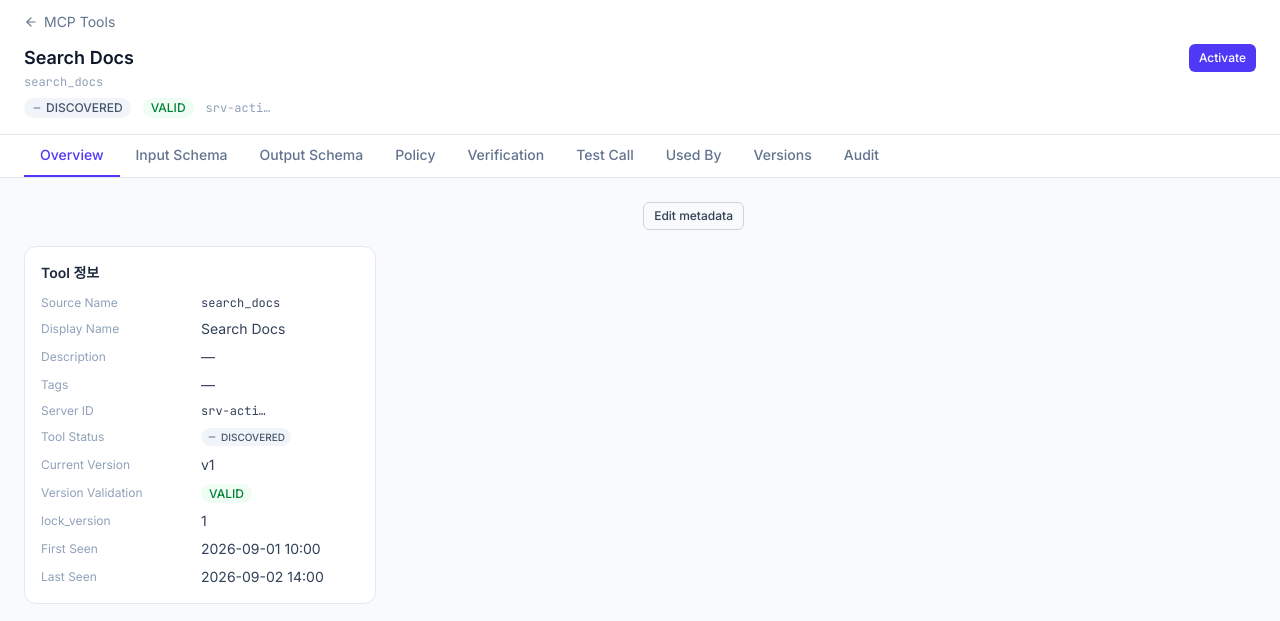
Test: MCPToolDetail — API detail › ignores stale Version A response after Version B is selected
Check: the heading "Search Docs" is shown, box [24,47,134,68]
Click the button "Versions" at (783, 156), box [738,135,828,177]
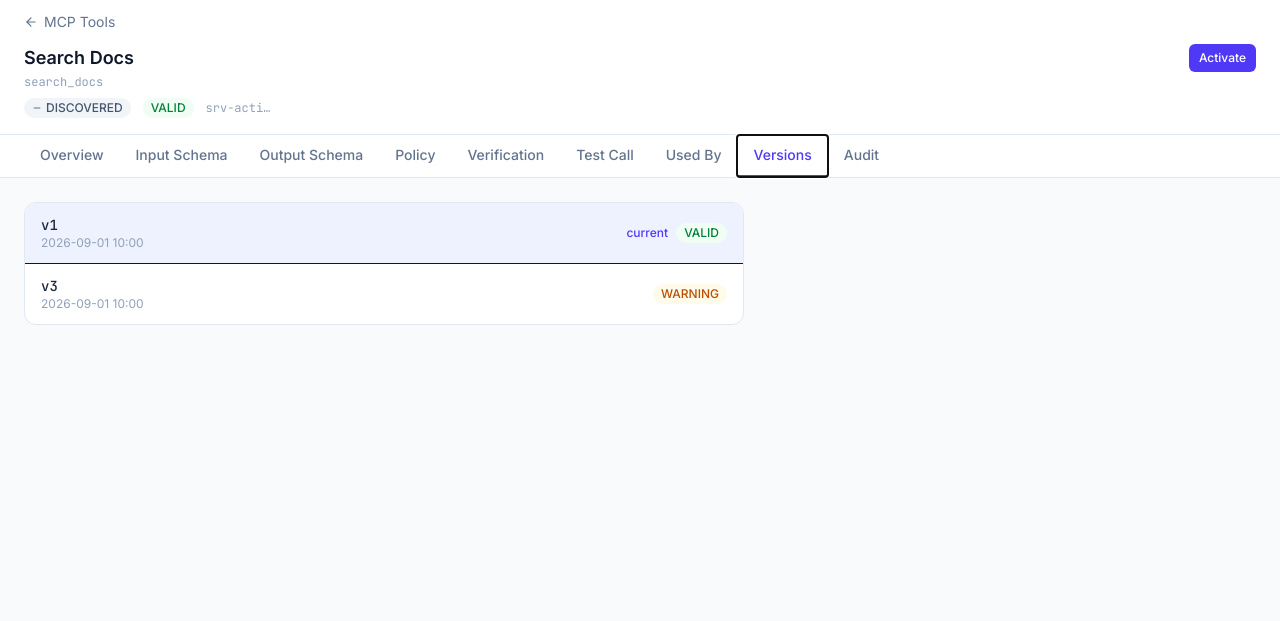
Version A (v3) — keep pending
Click the text "v3" at (49, 286), box [41,277,58,295]
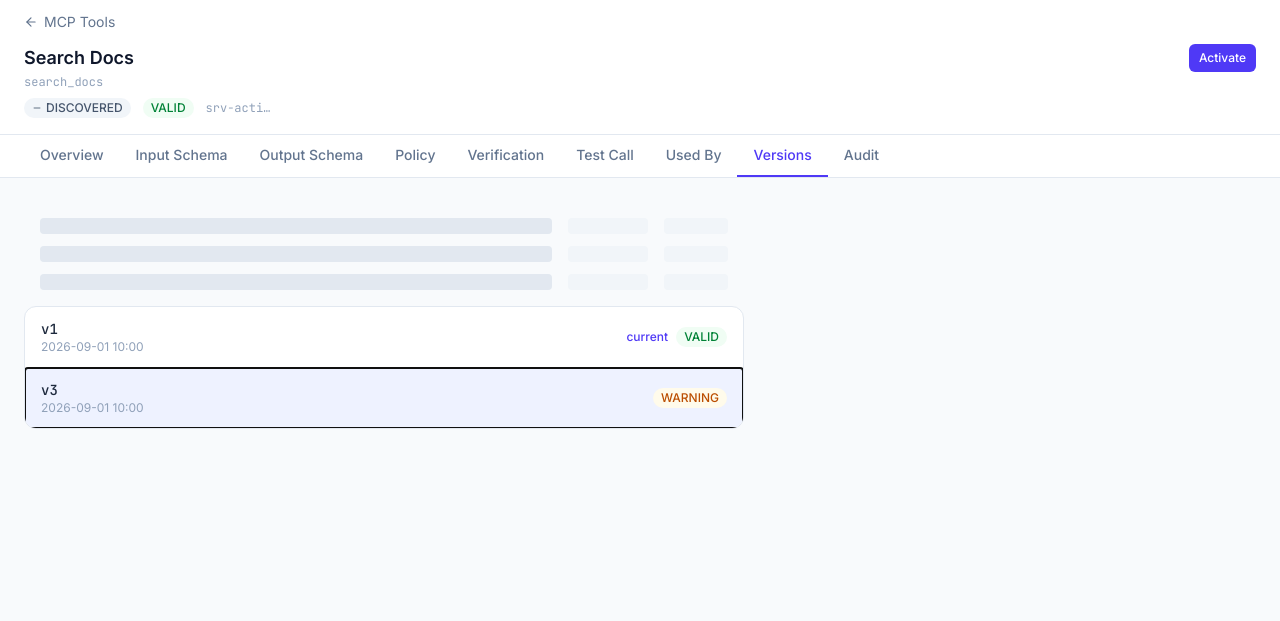
Version B (v1) — resolves first
Click the text "v1" at (49, 329), box [41,320,58,338]
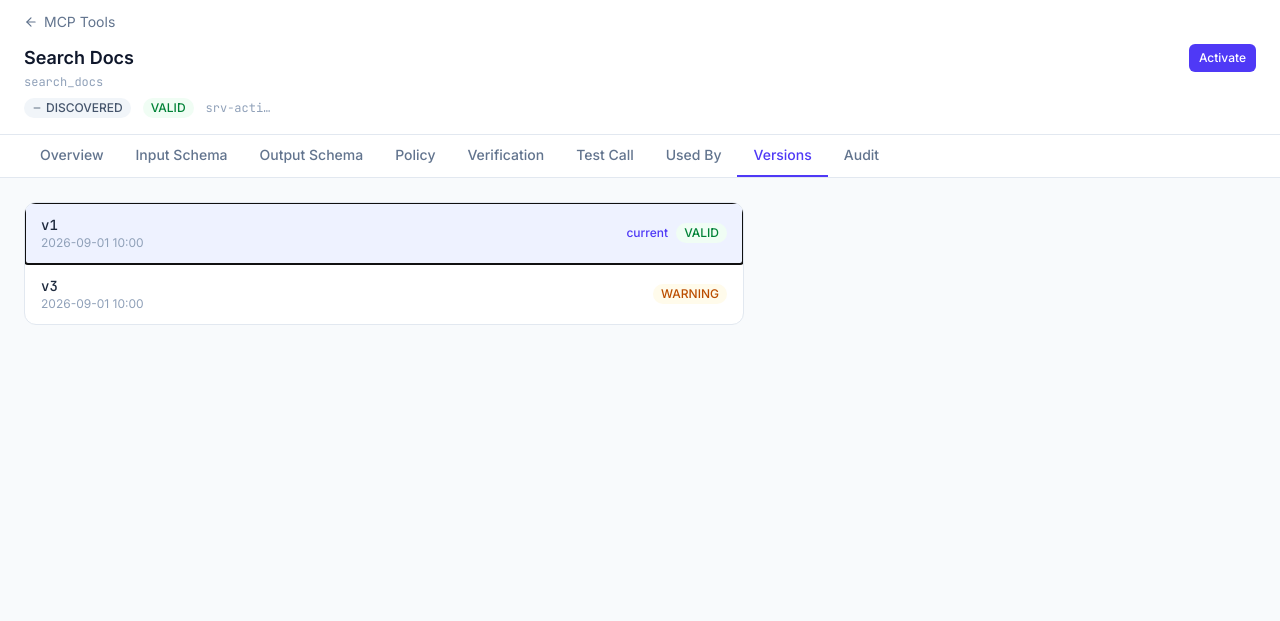
Click the button "Overview" at (72, 156), box [24,135,120,177]
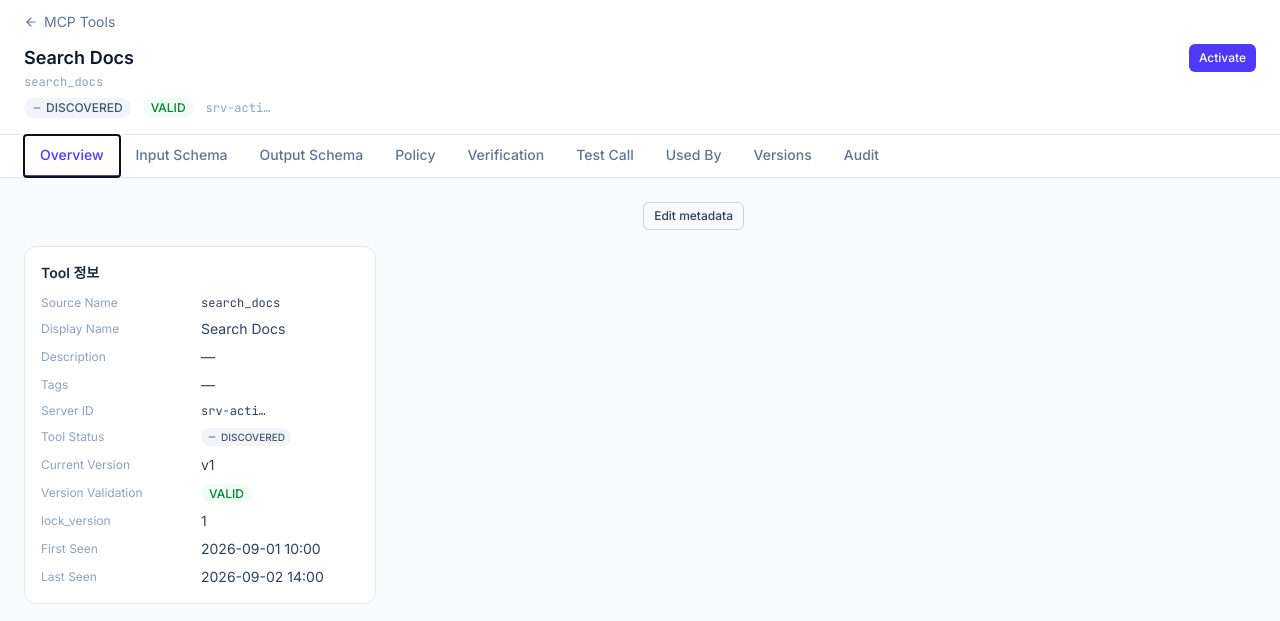
Check: the text "v1" is shown, box [201,455,215,475]
Check: the button "v3" is gone
